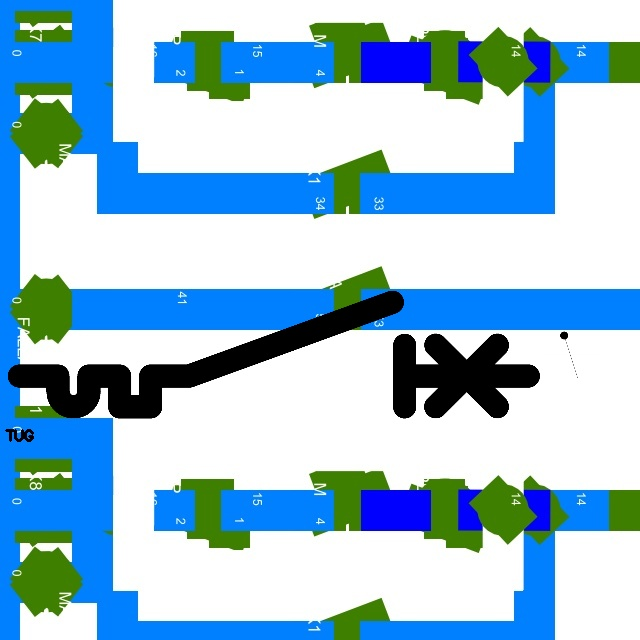interruptor_termomagnetico: (6, 289, 541, 420)
